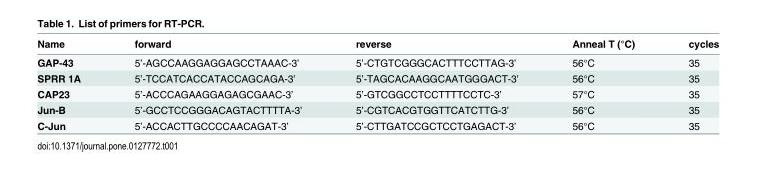table: (36, 37, 718, 131)
table column: (106, 37, 328, 131), (328, 37, 544, 131), (544, 37, 660, 131), (36, 37, 106, 131), (660, 37, 718, 131)
table column header: (36, 37, 718, 52)
table row: (36, 52, 718, 69), (36, 69, 718, 85), (36, 85, 718, 101), (36, 101, 718, 117), (36, 37, 718, 52), (36, 117, 718, 131)
